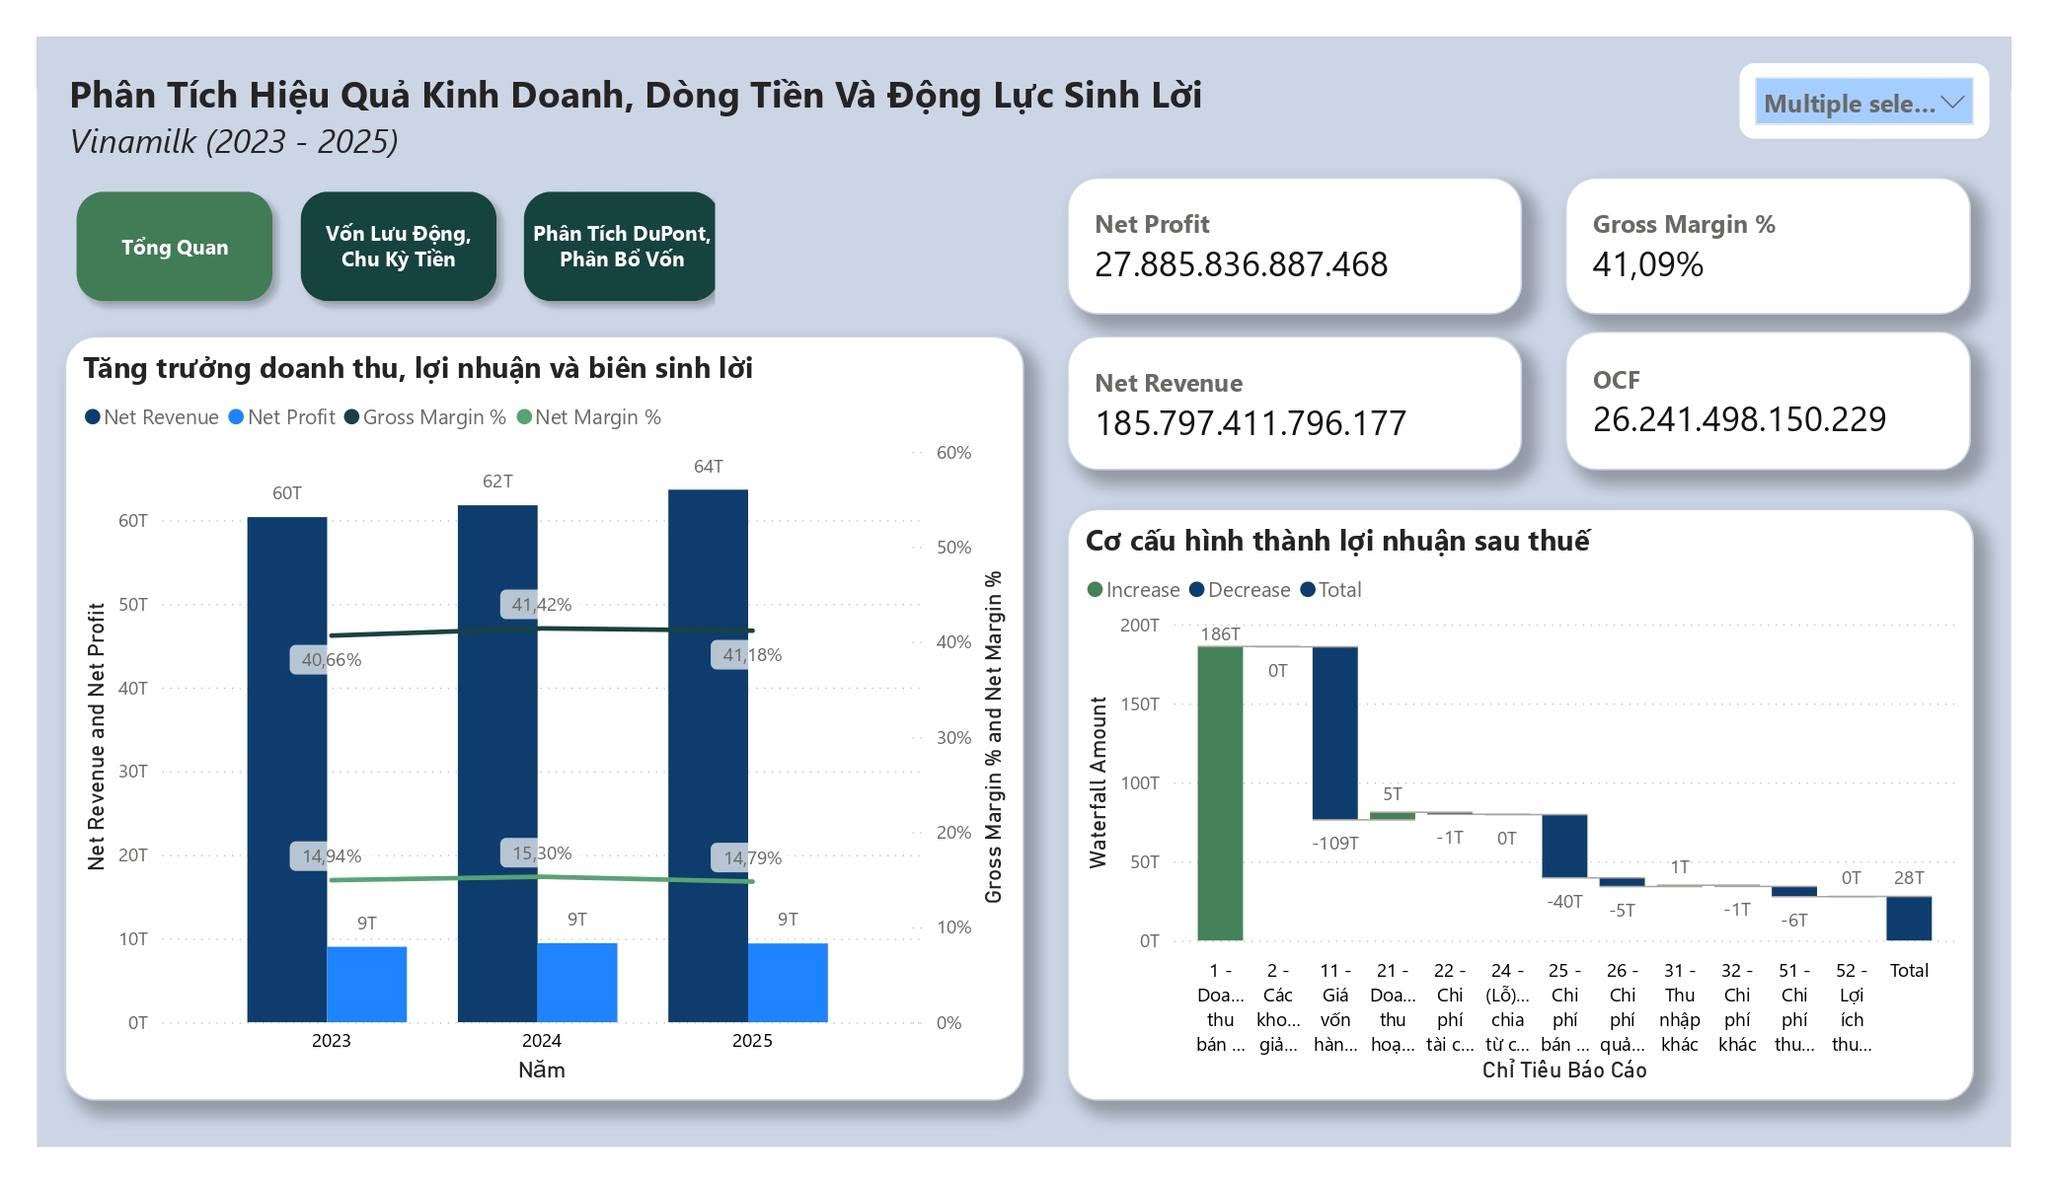

The page's visual inventory and layout, read from the dashboard file:
{"tool":"powerbi","page":{"name":"Tổng Quan ","canvas":[1280,720],"ordinal":0},"visuals":[{"type":"shape","box":[1104.3,16.7,161.5,49],"z":0,"group":"g1"},{"type":"cardVisual","fields":{"Data":["Measures (2).Net Profit"]},"box":[667.5,91.2,295,88.8],"z":0},{"type":"slicer","fields":{"Values":["FinancialVinamilkData.Năm"]},"box":[1104.4,15.7,161.5,53.8],"z":1000,"group":"g1"},{"type":"cardVisual","fields":{"Data":["Measures (2).Gross Margin %"]},"box":[991.2,91.2,262.5,88.8],"z":1000},{"type":"cardVisual","fields":{"Data":["Measures (2).OCF"]},"box":[990.9,190.7,262.9,90],"z":2000},{"type":"lineClusteredColumnComboChart","title":"Tăng trưởng doanh thu, lợi nhuận và biên sinh lời","fields":{"Category":["FinancialVinamilkData.Năm"],"Y":["Measures (2).Net Revenue","Measures (2).Net Profit"],"Y2":["Measures (2).Gross Margin %","Measures (2).Net Margin %"]},"box":[17.5,193.8,622.5,496.2],"z":3000},{"type":"cardVisual","fields":{"Data":["Measures (2).Net Revenue"]},"box":[667.5,193.8,295,87.5],"z":4000},{"type":"waterfallChart","title":"Cơ cấu hình thành lợi nhuận sau thuế","fields":{"Category":["DimFinancialItems.Chỉ Tiêu Báo Cáo"],"Y":["BBCKQKD.Waterfall Amount"]},"box":[667.5,306.2,588.8,383.8],"z":5000},{"type":"group","id":"g1","title":"Group 1","box":[1104.3,15.7,161.4,52.9],"z":6000},{"type":"pageNavigator","box":[17.1,91.4,422.9,88.6],"z":7000},{"type":"textbox","box":[16.2,15,840,85],"z":8000}]}

Visuals, with their boxes in screenshot pixels (x1, y1, x2, y2), scaled from the page's 1280x720 canvas onto the 2048x1184 screenshot:
shape: box(1767, 27, 2025, 108)
cardVisual - Measures (2).Net Profit: box(1068, 150, 1540, 296)
slicer - FinancialVinamilkData.Năm: box(1767, 26, 2025, 114)
cardVisual - Measures (2).Gross Margin %: box(1586, 150, 2006, 296)
cardVisual - Measures (2).OCF: box(1585, 314, 2006, 462)
"Tăng trưởng doanh thu, lợi nhuận và biên sinh lời" lineClusteredColumnComboChart: box(28, 319, 1024, 1135)
cardVisual - Measures (2).Net Revenue: box(1068, 319, 1540, 463)
"Cơ cấu hình thành lợi nhuận sau thuế" waterfallChart: box(1068, 504, 2010, 1135)
"Group 1" group: box(1767, 26, 2025, 113)
pageNavigator: box(27, 150, 704, 296)
textbox: box(26, 25, 1370, 164)
